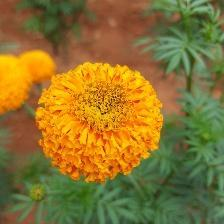marigold: (34, 64, 170, 187), (1, 54, 31, 114), (21, 49, 60, 84)
